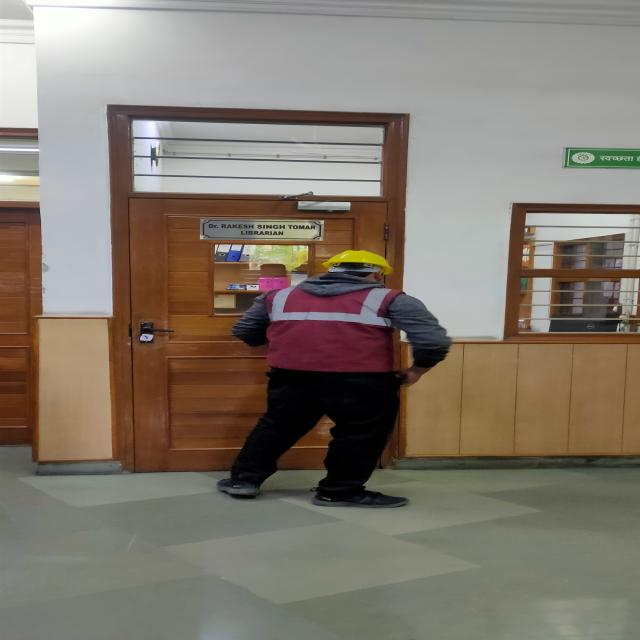safe: (231, 251, 411, 506)
